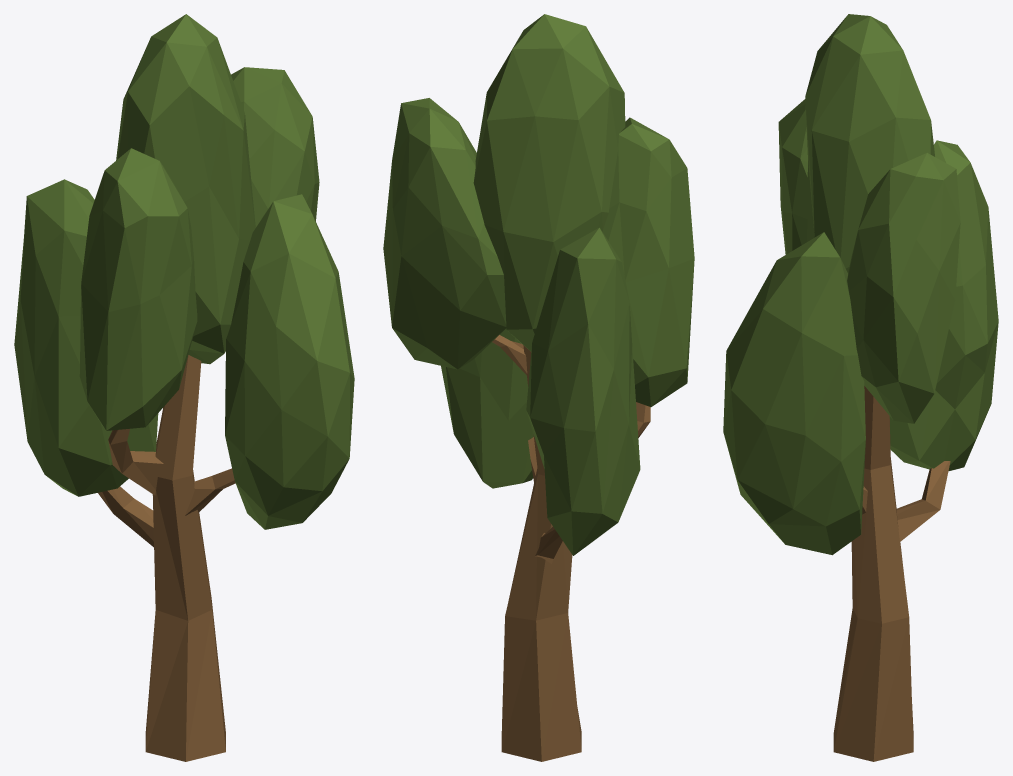
File: Tree_3_4.FBX
3 renders of one model, left to right at view 1: azimuth 30°, elevation 25°; view 2: azimuth 150°, elevation 25°; view 3: azimuth 270°, elevation 25°, orthographic.
Parts seen in each view (by area): view 1: Tree_3_4; view 2: Tree_3_4; view 3: Tree_3_4.
Part boxes in pixels (x1,y1,x2,y2): Tree_3_4: (14, 14, 354, 761); Tree_3_4: (383, 14, 694, 761); Tree_3_4: (723, 14, 998, 761).
Size of the model in its own units: 73.97 by 194 by 66.83.
Materials: 1 (1 with a texture image).
